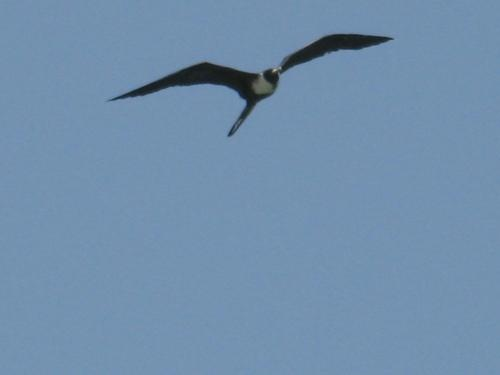bird: (111, 33, 395, 136)
